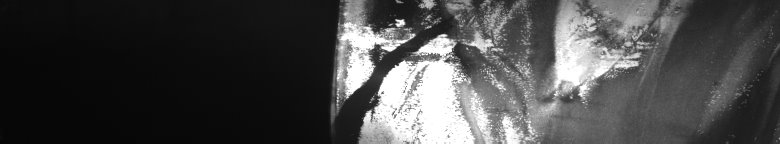ke: (348, 4, 773, 136)
